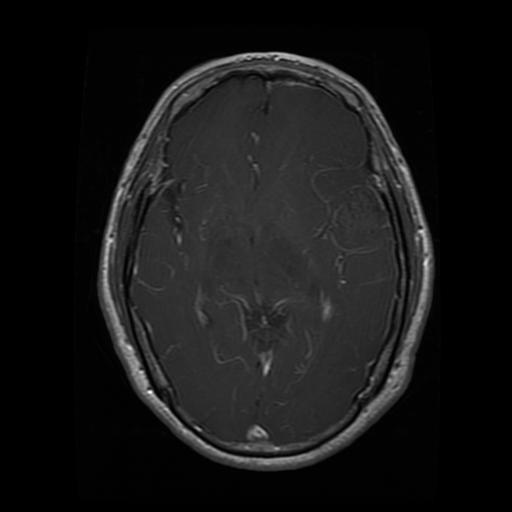Gliomia_tumour: (326, 182, 385, 252)
